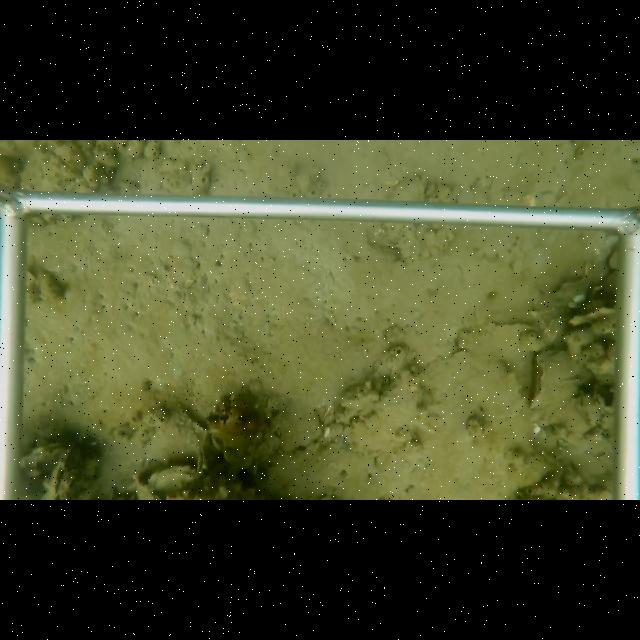Oyster-Closed: (339, 372, 428, 456), (527, 353, 550, 411), (195, 445, 208, 484)
